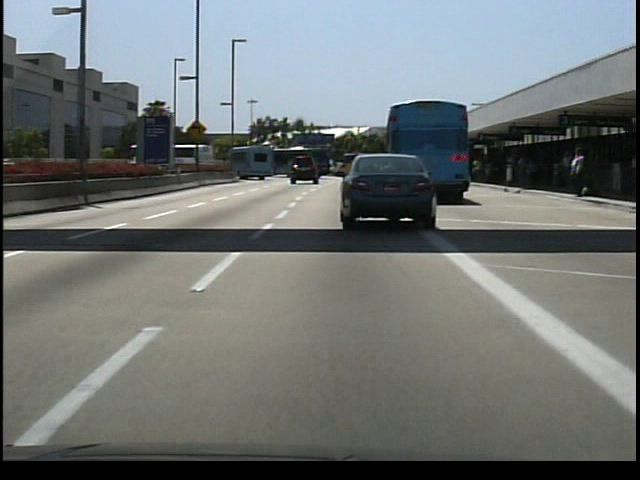person: (565, 146, 589, 201)
